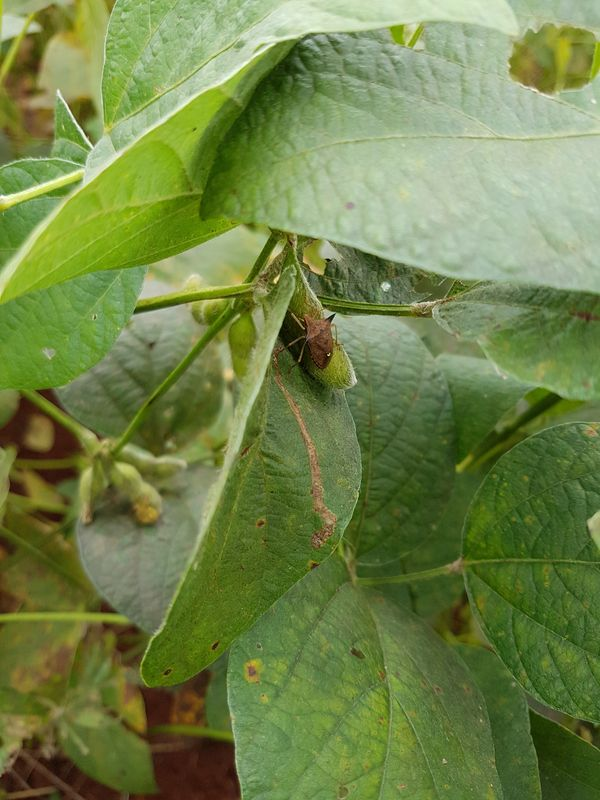Euschistus_heros_adulto: (272, 305, 350, 378)
